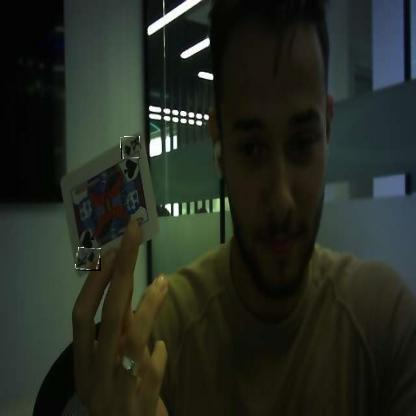KS: (76, 248, 101, 271), (121, 137, 140, 159)
